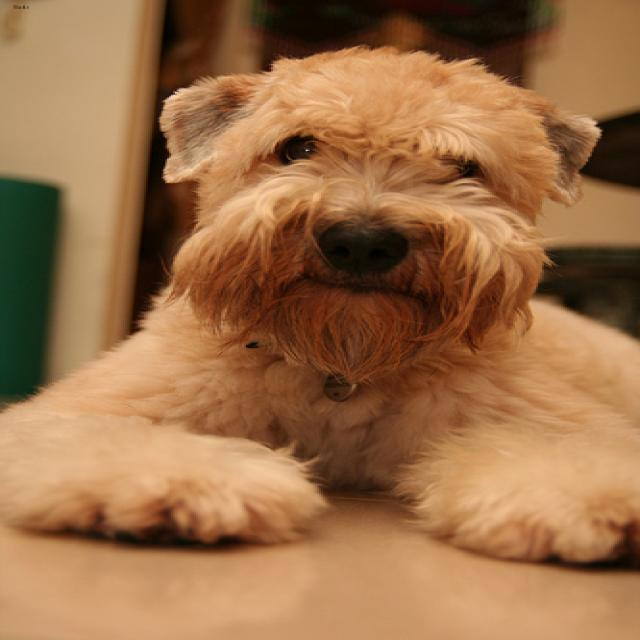dog-wheaten_terrier: (2, 37, 636, 590)
